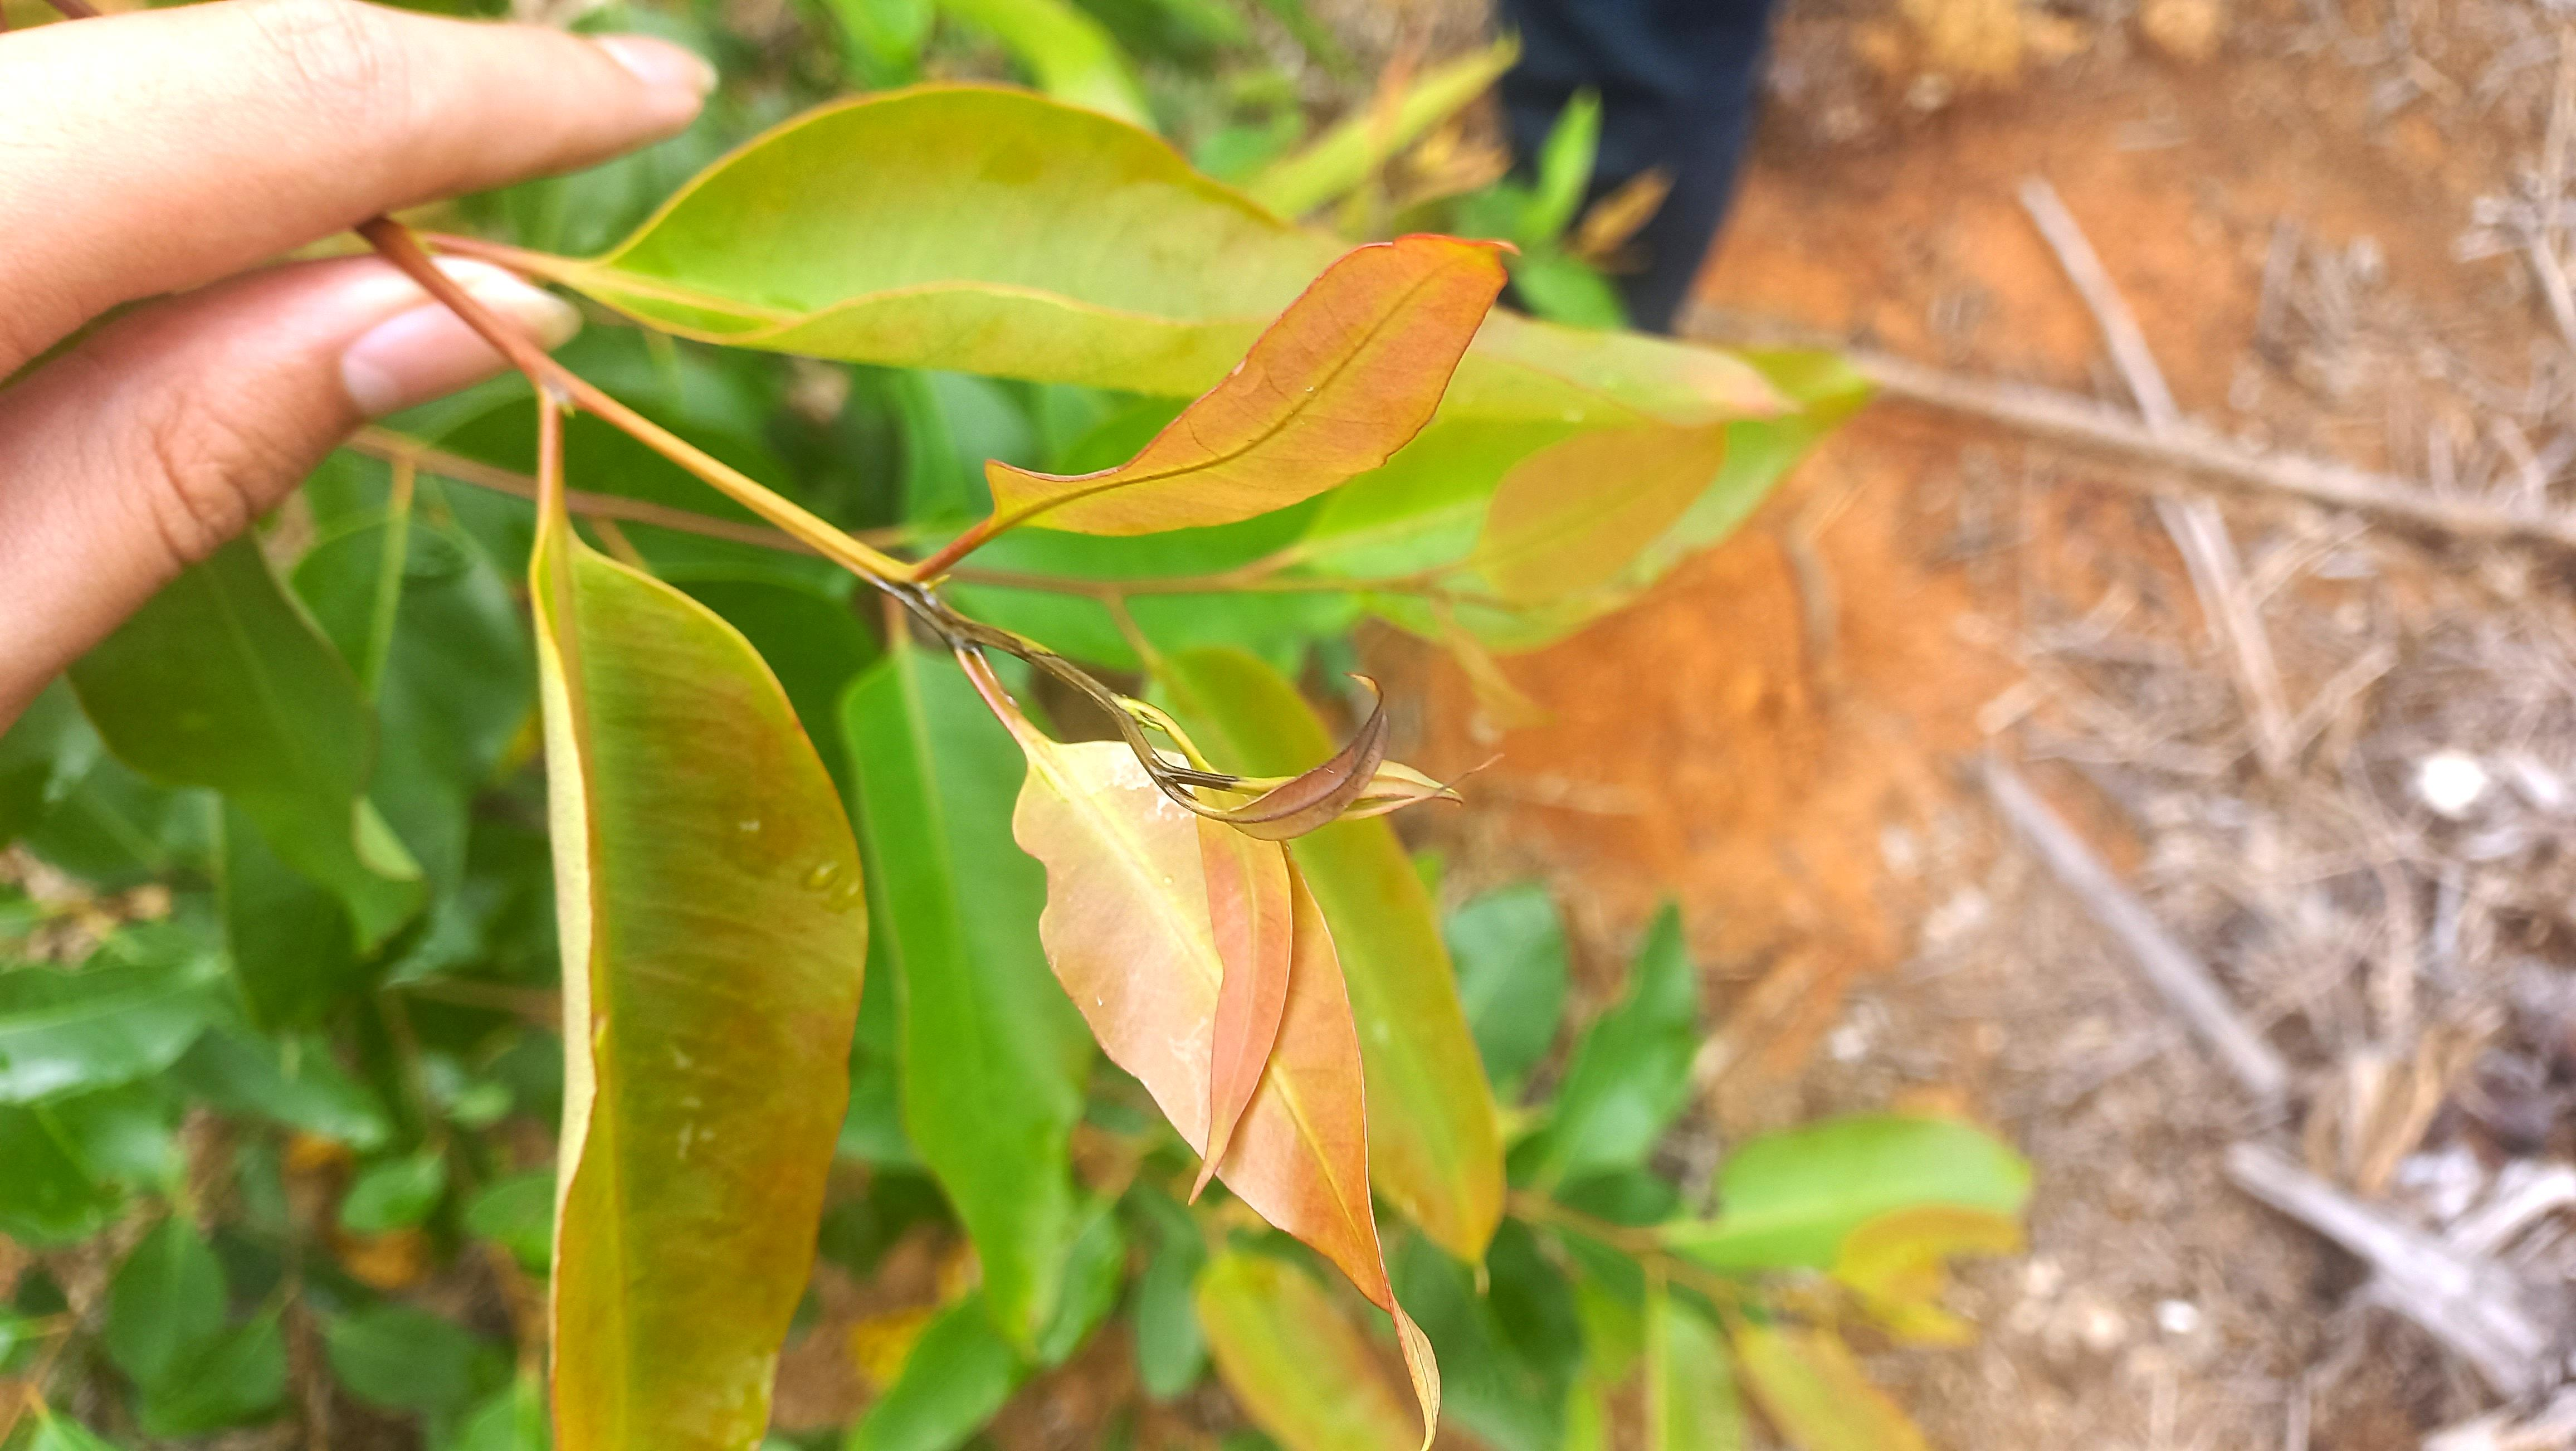Helopeltis-Withered Sprout: (993, 218, 1516, 529), (1173, 791, 1297, 1217), (1201, 672, 1394, 844), (1109, 763, 1456, 849), (915, 596, 1136, 729), (12, 862, 179, 954), (177, 1099, 237, 1217)
